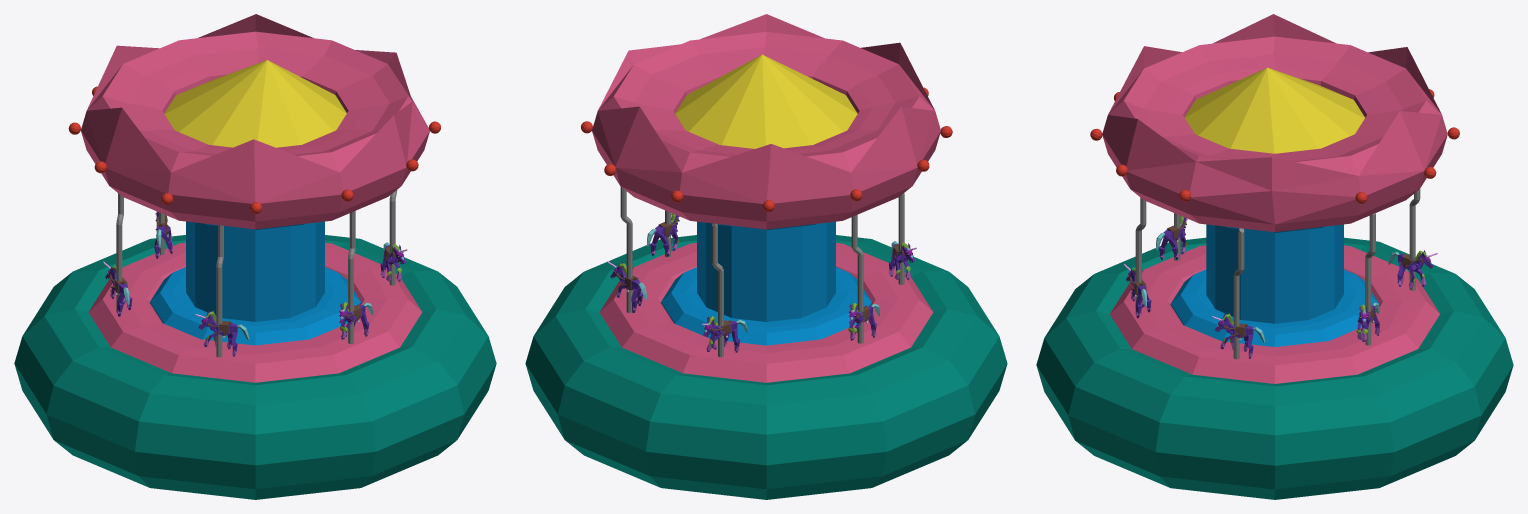
3 views of the same model, side by side, from view 1: azimuth 30°, elevation 25°; view 2: azimuth 150°, elevation 25°; view 3: azimuth 270°, elevation 25° (orthographic).
Visible parts, largest first — view 1: node_MeshObject1191952384-PolyPaper5, node_MeshObject901538816-PolyPaper0; view 2: node_MeshObject1191952384-PolyPaper5, node_MeshObject901538816-PolyPaper0; view 3: node_MeshObject1191952384-PolyPaper5, node_MeshObject901538816-PolyPaper0.
Part boxes in pixels (<box>): node_MeshObject1191952384-PolyPaper5: <box>81,14,429,382</box>; node_MeshObject901538816-PolyPaper0: <box>14,86,496,499</box>; node_MeshObject1191952384-PolyPaper5: <box>592,14,940,382</box>; node_MeshObject901538816-PolyPaper0: <box>525,87,1007,499</box>; node_MeshObject1191952384-PolyPaper5: <box>1102,14,1447,383</box>; node_MeshObject901538816-PolyPaper0: <box>1036,89,1513,499</box>.
Bounding box in the file's own units: 3.12 × 2.56 × 3.12.
